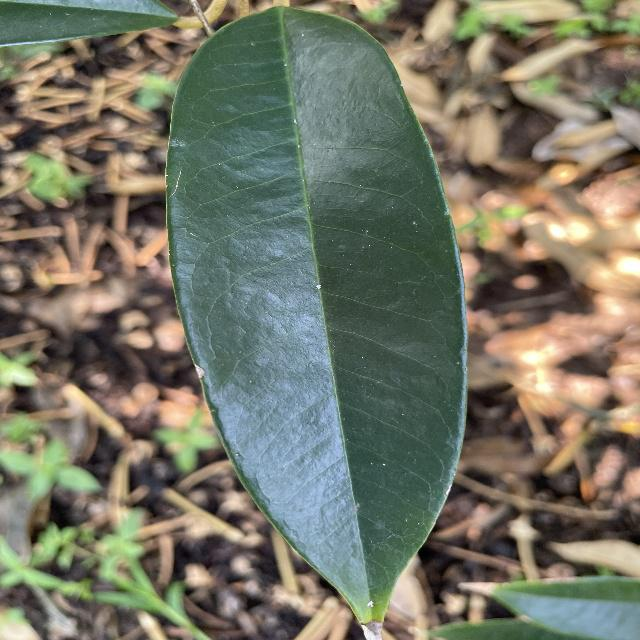No Disease: (159, 0, 482, 639)
